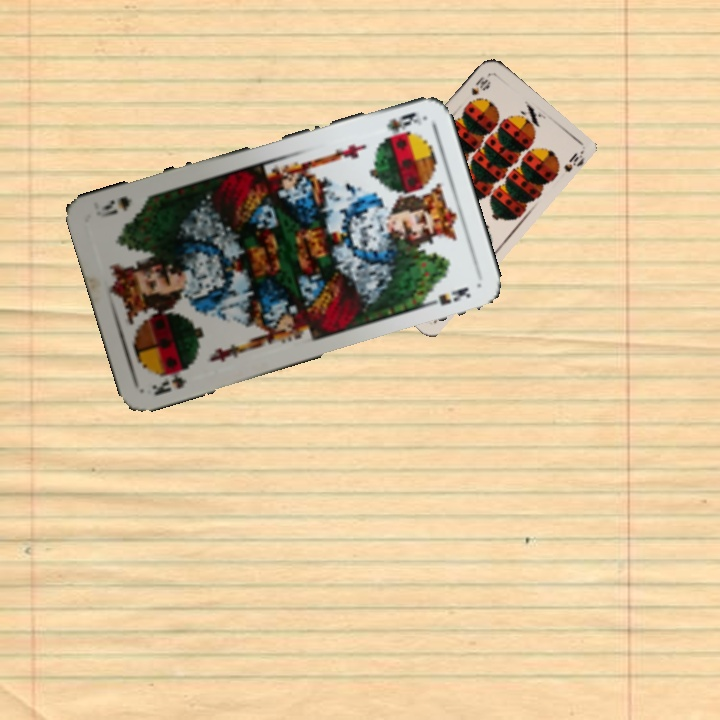S10: (467, 70, 493, 98)
SK: (148, 363, 192, 398), (382, 108, 426, 135)
